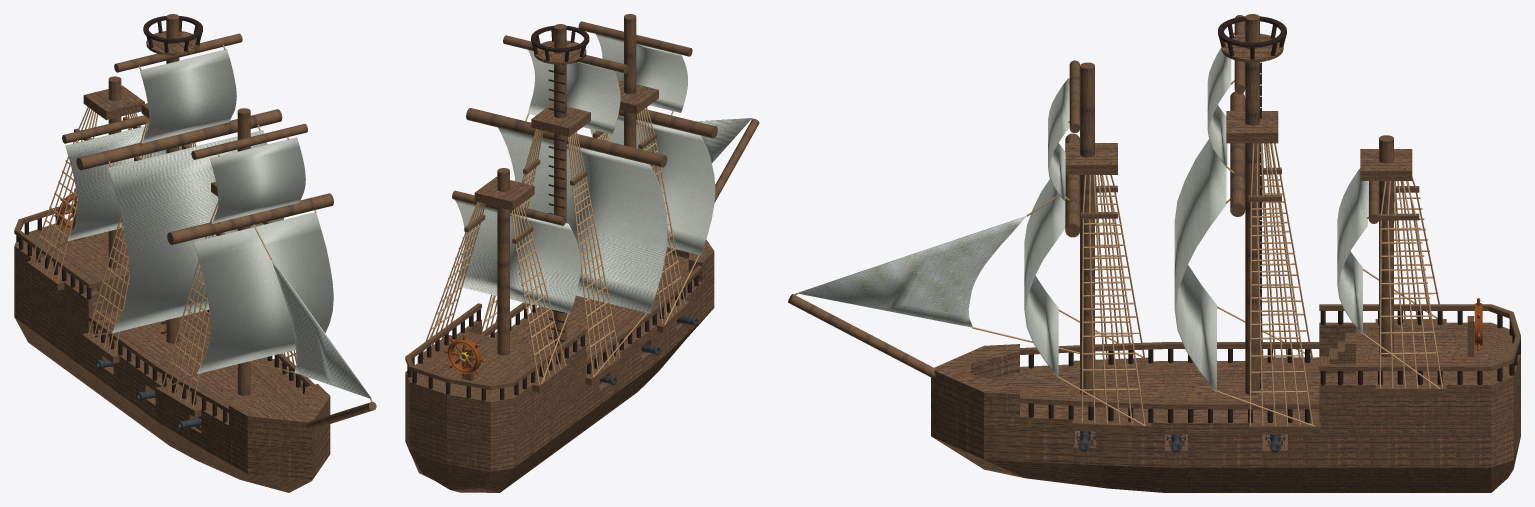
The model's file is ship.fbx.
3 renders of one model, left to right at view 1: azimuth 30°, elevation 25°; view 2: azimuth 150°, elevation 25°; view 3: azimuth 270°, elevation 25°, orthographic. The views are drawn at different scales.
Parts seen in each view (by area): view 1: Ship; view 2: Ship; view 3: Ship.
Boxes of the visible parts, x1,y1,x2,y2 form: Ship: [14, 14, 376, 492]; Ship: [405, 14, 759, 492]; Ship: [788, 14, 1520, 492].
Size of the model in its own units: 1069 by 2054 by 2944.
